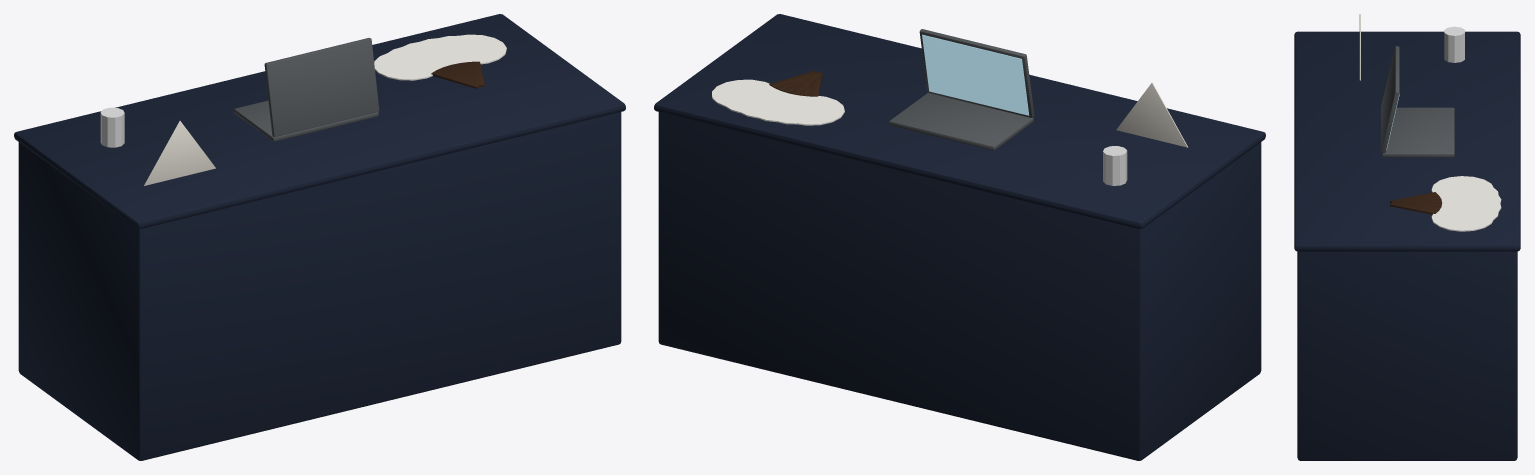
Rendered from marlin_reg_desk.glb.
3 views of the same model, side by side, from view 1: azimuth 30°, elevation 25°; view 2: azimuth 150°, elevation 25°; view 3: azimuth 270°, elevation 25° (orthographic). The views are drawn at different scales.
Parts seen in each view (by area): view 1: marlin_reg_desk; view 2: marlin_reg_desk; view 3: marlin_reg_desk.
Boxes of the visible parts, box(x1,y1,x2,y2) form: marlin_reg_desk: box(14, 14, 625, 460); marlin_reg_desk: box(654, 14, 1265, 460); marlin_reg_desk: box(1294, 14, 1520, 460).
Bounding box in the file's own units: 1.62 × 0.9964 × 0.72.
